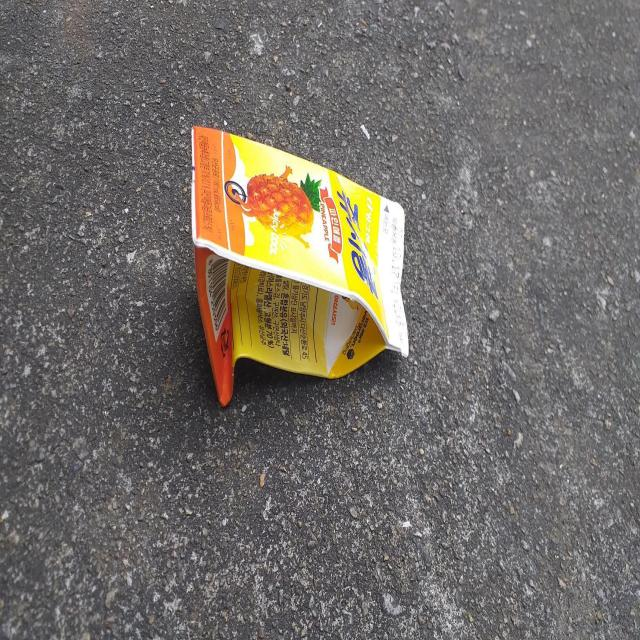paperpack: (191, 126, 409, 406)
